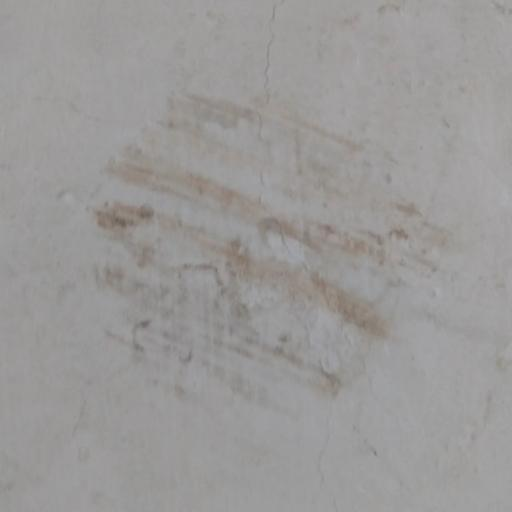stain: (67, 64, 465, 454)
